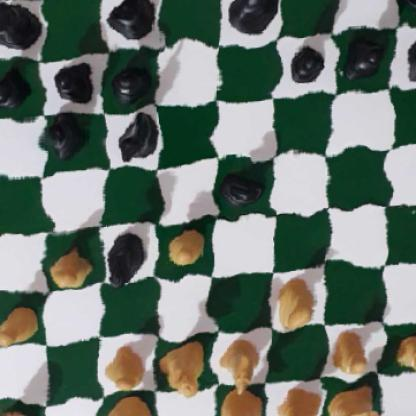black-bishop: (44, 112, 95, 161), (108, 0, 162, 42)
black-king: (225, 0, 283, 34)
black-knight: (112, 105, 156, 165)
black-pawn: (338, 32, 388, 82), (51, 56, 96, 107), (220, 164, 265, 210), (285, 37, 328, 84), (109, 55, 149, 100), (0, 65, 28, 110), (399, 30, 416, 83)
black-queen: (105, 232, 151, 287)
black-rook: (0, 0, 39, 54), (407, 0, 416, 14)
white-bishop: (268, 381, 327, 416), (107, 399, 153, 416)
white-king: (212, 384, 261, 416)
white-knight: (222, 334, 259, 398)
white-pawn: (49, 237, 94, 289), (326, 327, 377, 372), (109, 342, 151, 394), (275, 277, 318, 327), (162, 222, 206, 269), (0, 304, 37, 346), (386, 329, 416, 373)
white-queen: (160, 339, 209, 403)
white-rook: (332, 375, 378, 416), (0, 403, 34, 416)
